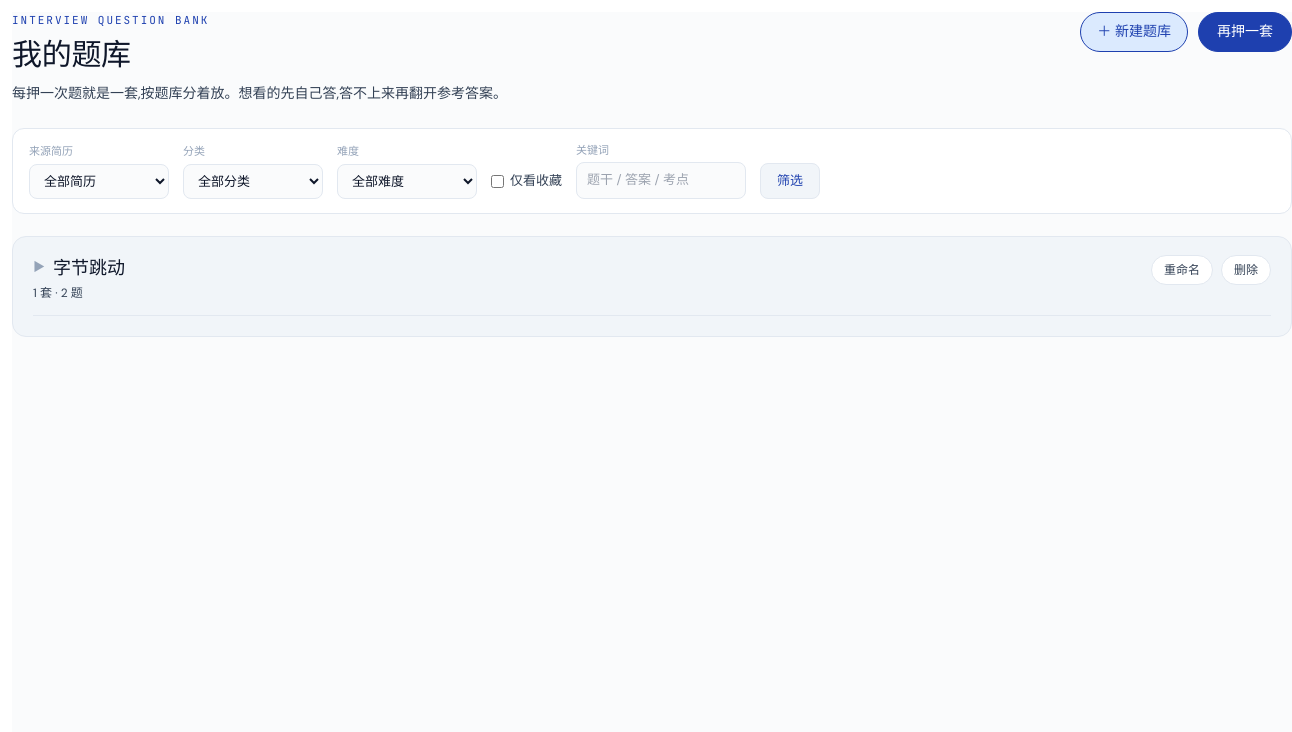
Test case: QuestionBank · 三层折叠 › 展开套 → 出现题卡(题干常显、答案收起)
Step 1. Click the button "▶ 字节跳动" → [79, 268], box 33,255 -> 125,280
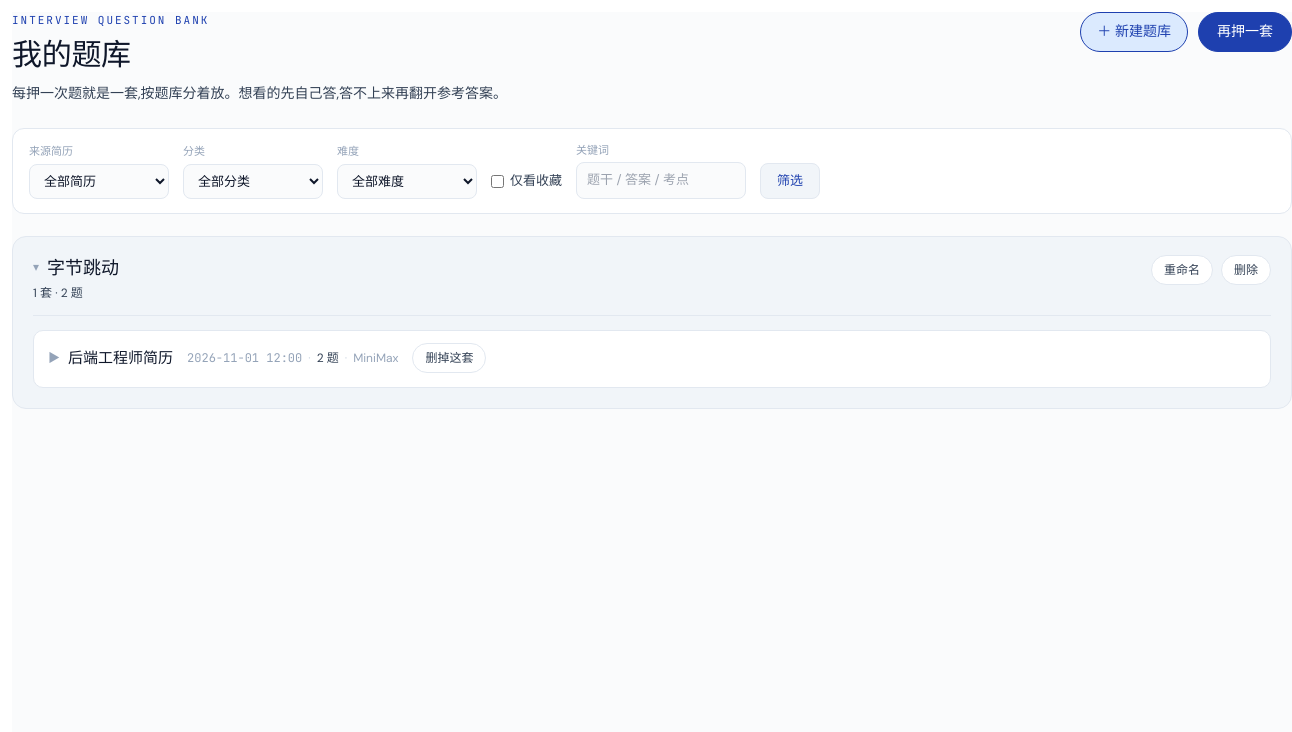
Expected: the element "后端工程师简历" is shown, 33,330 -> 1271,388
Step 2. Click the button "▶ 后端工程师简历" → [110, 358], box 48,347 -> 173,370
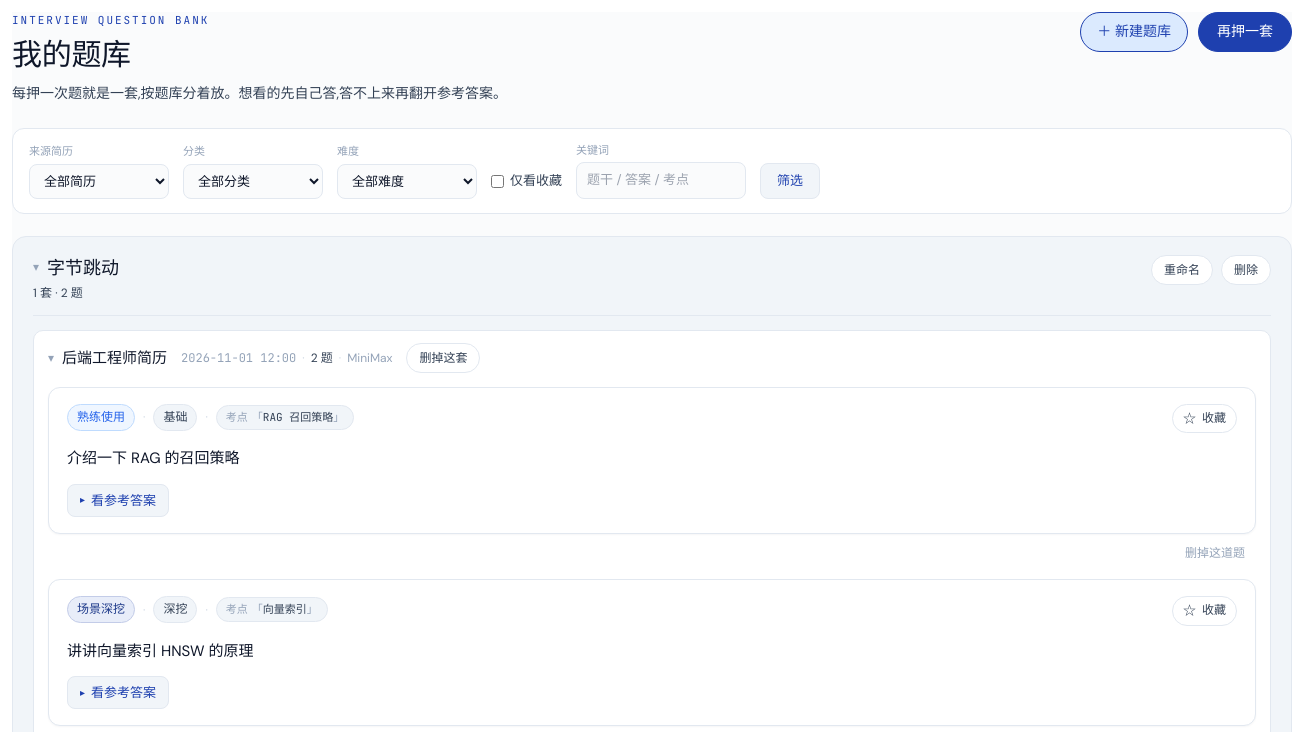
Expected: the text "BM25 + 向量混合召回,RRF 融合。" is not shown
Expected: the text "介绍一下 RAG 的召回策略" is shown, 67,448 -> 240,468
Expected: the text "讲讲向量索引 HNSW 的原理" is shown, 67,641 -> 254,661
Step 3. Click the button "▸ 看参考答案" below "介绍一下 RAG 的召回策略" → [118, 500], box 67,484 -> 169,517
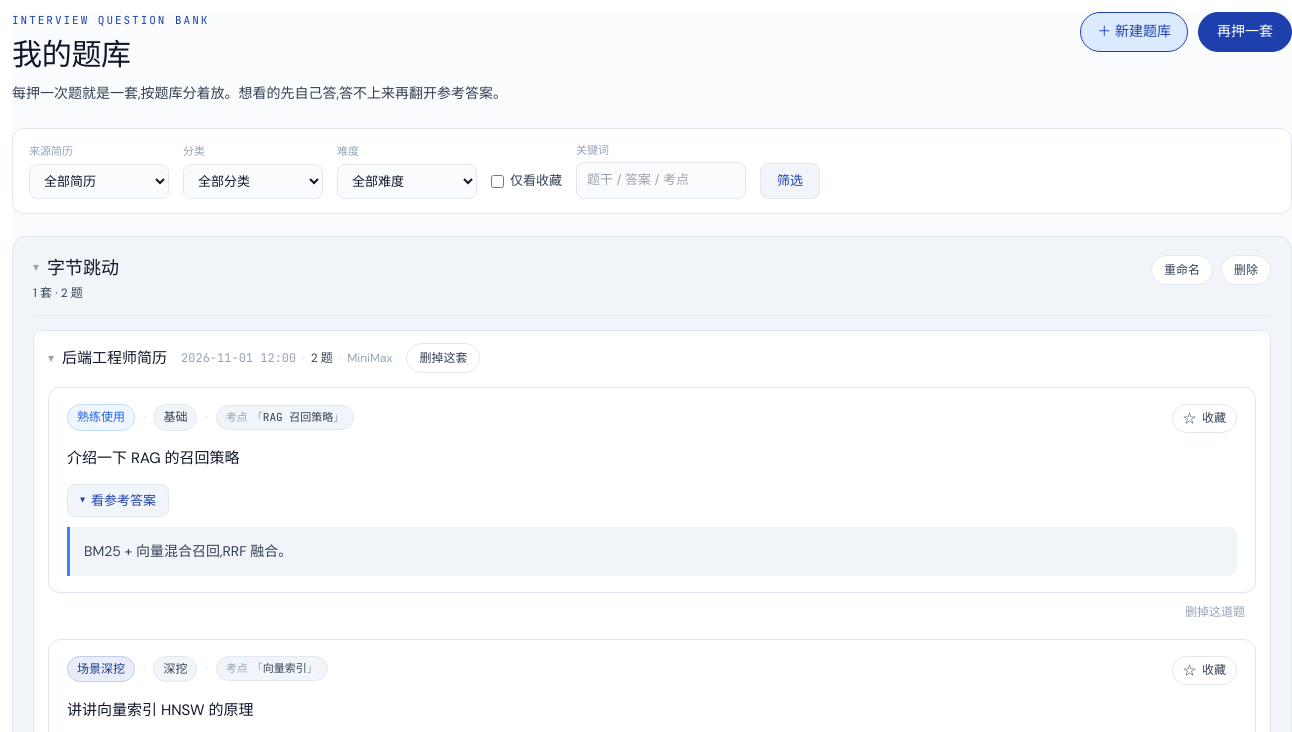
Expected: the text "BM25 + 向量混合召回,RRF 融合。" is shown, 67,527 -> 1237,576
